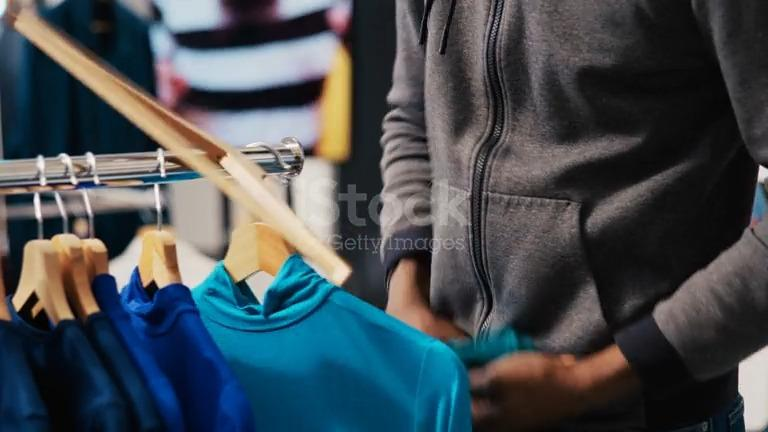Shoplifting: (318, 0, 768, 432)
